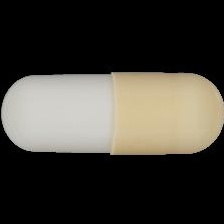0591-0410: (0, 0, 224, 224)
